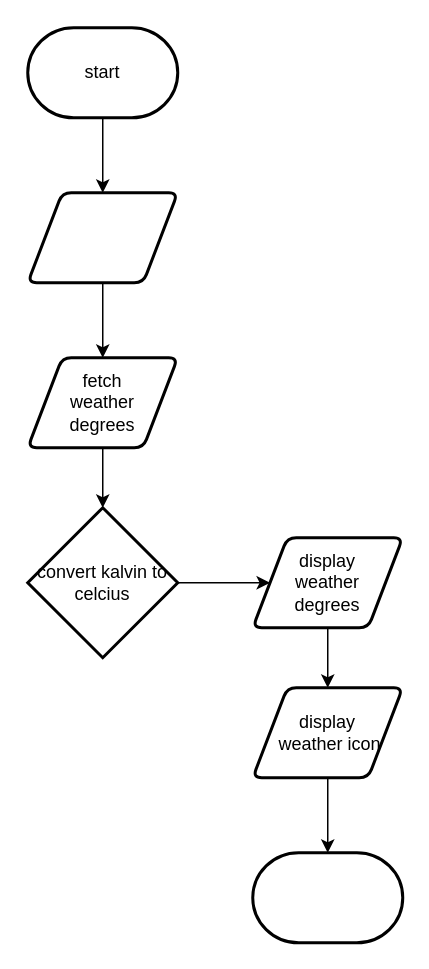
Some shapes in this 429 by 969 pixel diagram are drawn without their labels. Here are the shapes that lost their labels. From the top down, the box of each, then its label:
(26, 190, 178, 284): fetch weather icon
(250, 850, 404, 944): stop
